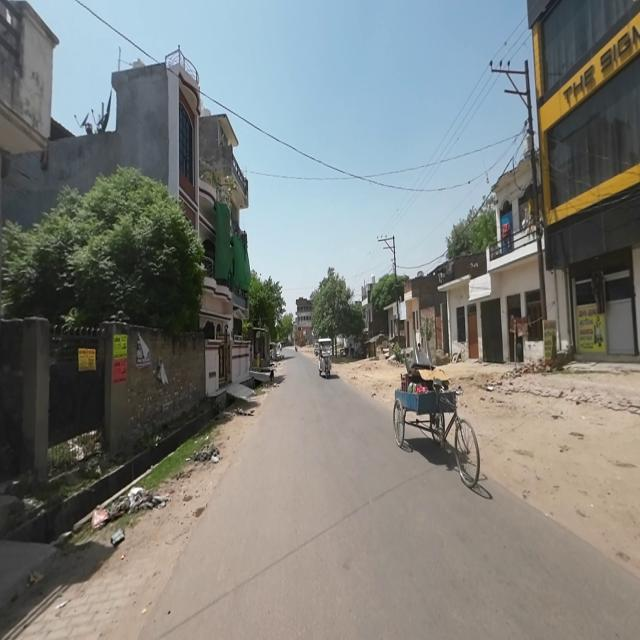Garbage: (90, 503, 124, 545), (125, 487, 168, 512), (191, 443, 221, 464), (233, 407, 254, 416)
